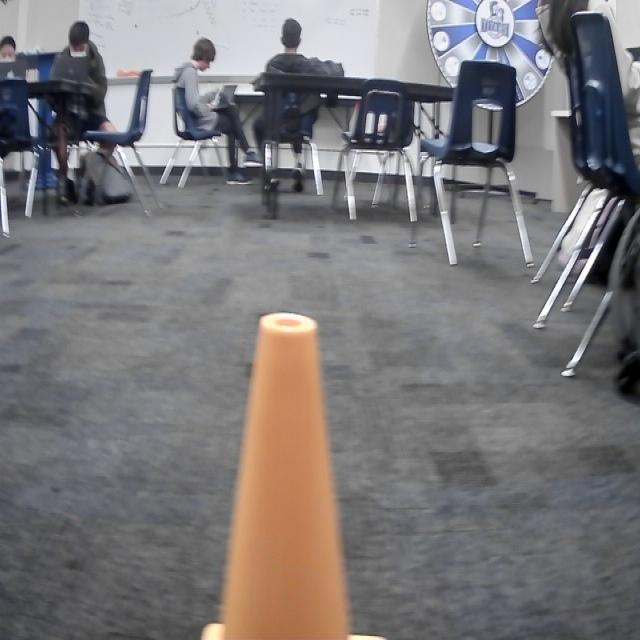cone: (194, 306, 387, 640)
